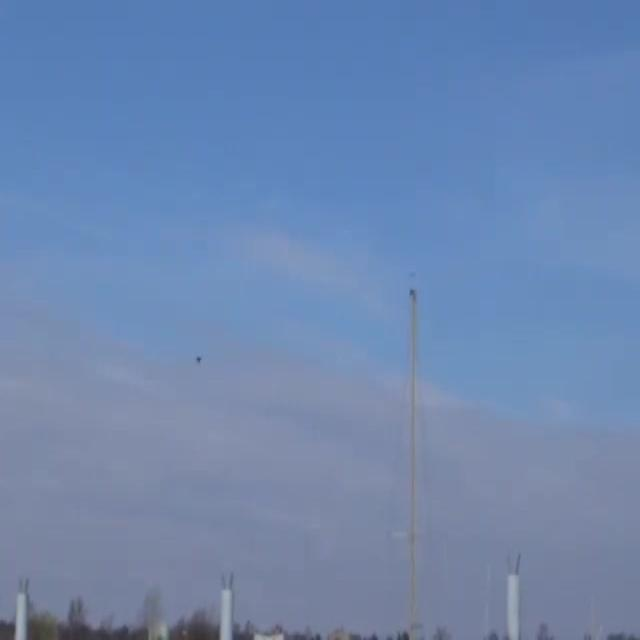bird: (189, 352, 207, 367)
